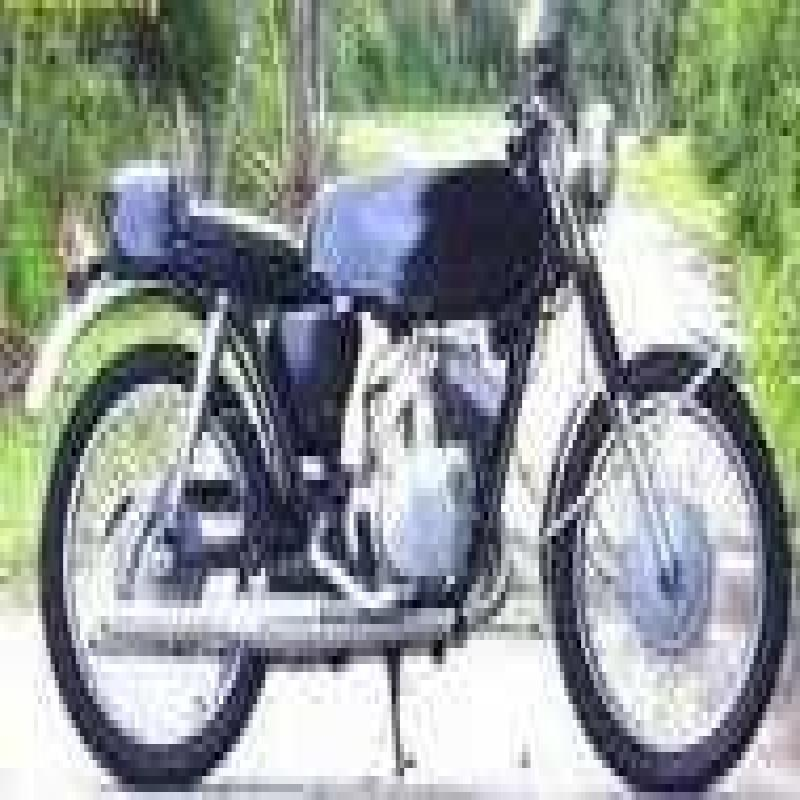bike: (29, 24, 800, 800)
